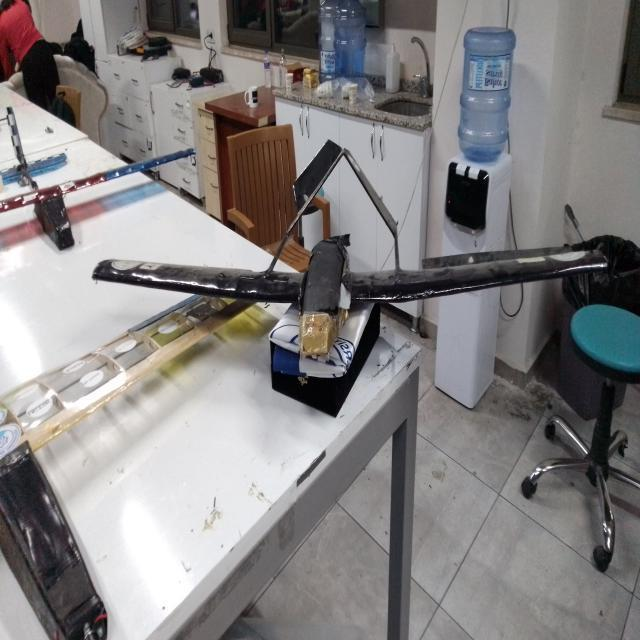iha: (106, 131, 620, 393), (0, 69, 138, 256)
